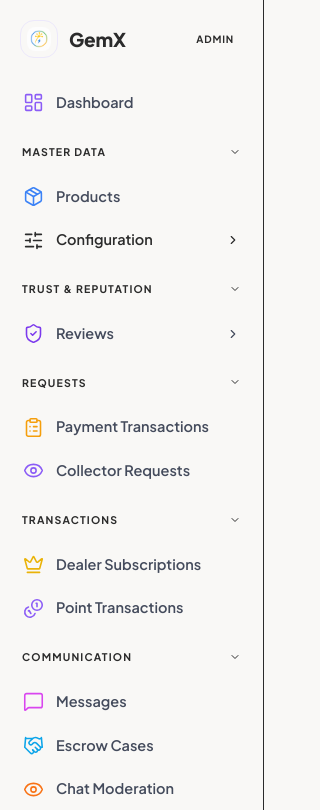
AdminSidebar Configuration sub-menu › can be collapsed while a child route is active
Click the button "Configuration" at coordinates (132, 240), box x1=12 y1=219 x2=251 y2=261
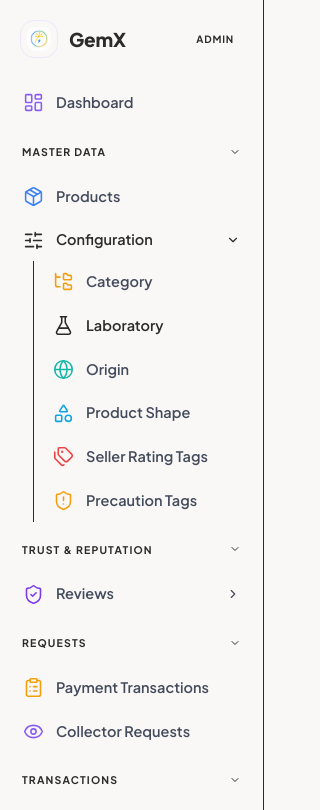
expect the link "Laboratory" is shown: met, box x1=53 y1=315 x2=164 y2=336
Click the button "Configuration" at coordinates (132, 240), box x1=12 y1=219 x2=251 y2=261
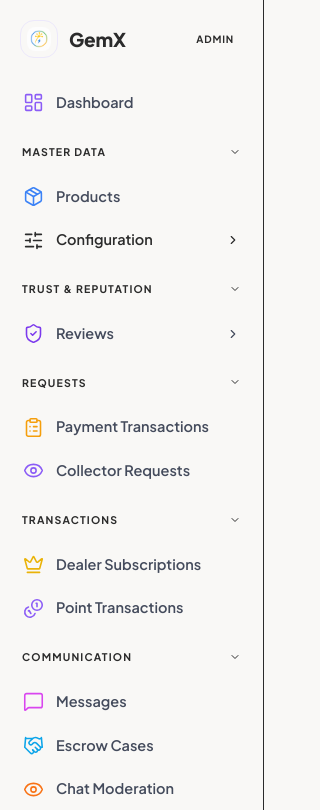
expect the button "Configuration" is collapsed: met, box x1=12 y1=219 x2=251 y2=261
expect the link "Laboratory" is gone: met
